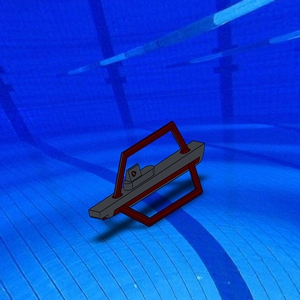submarine: (85, 121, 213, 232)
